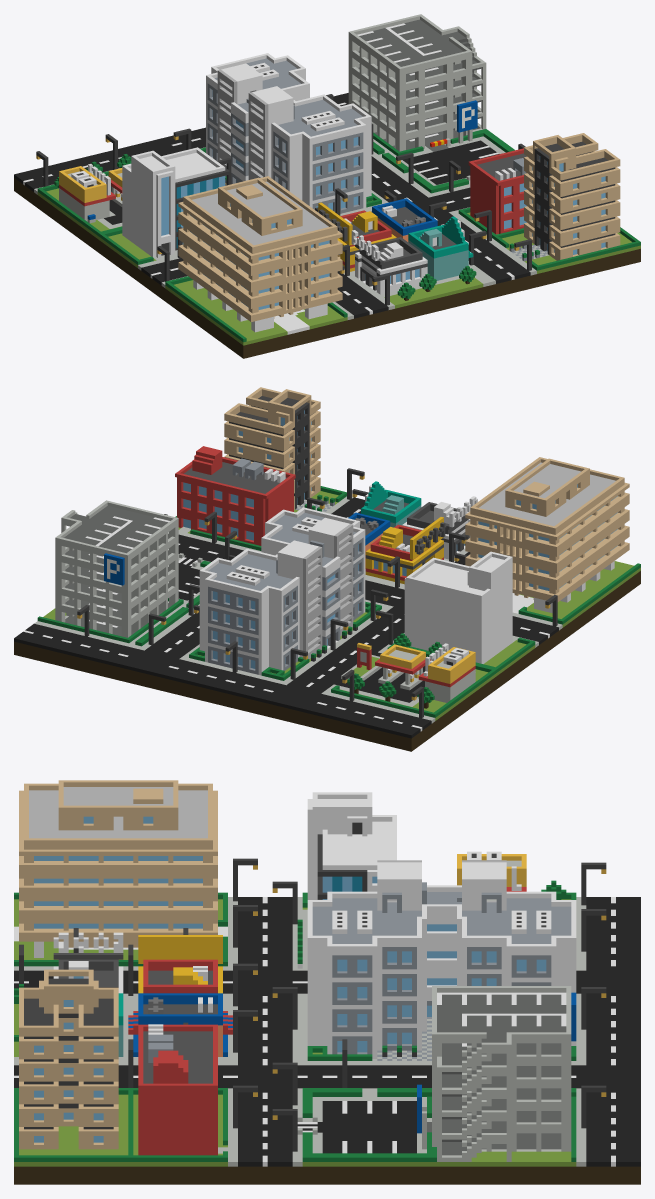
The model's file is city_2.obj.
3 renders of one model, top to bottom at view 1: azimuth 30°, elevation 25°; view 2: azimuth 150°, elevation 25°; view 3: azimuth 270°, elevation 25°, orthographic. The views are drawn at different scales.
Visible parts, largest first — view 1: city_2; view 2: city_2; view 3: city_2.
Boxes of the visible parts, x1=… form: city_2: x1=14, y1=14, x2=640, y2=358; city_2: x1=14, y1=387, x2=640, y2=751; city_2: x1=14, y1=780, x2=640, y2=1184.
Size of the model in its own units: 126 by 36 by 126.
Materials: 1 (1 with a texture image).
